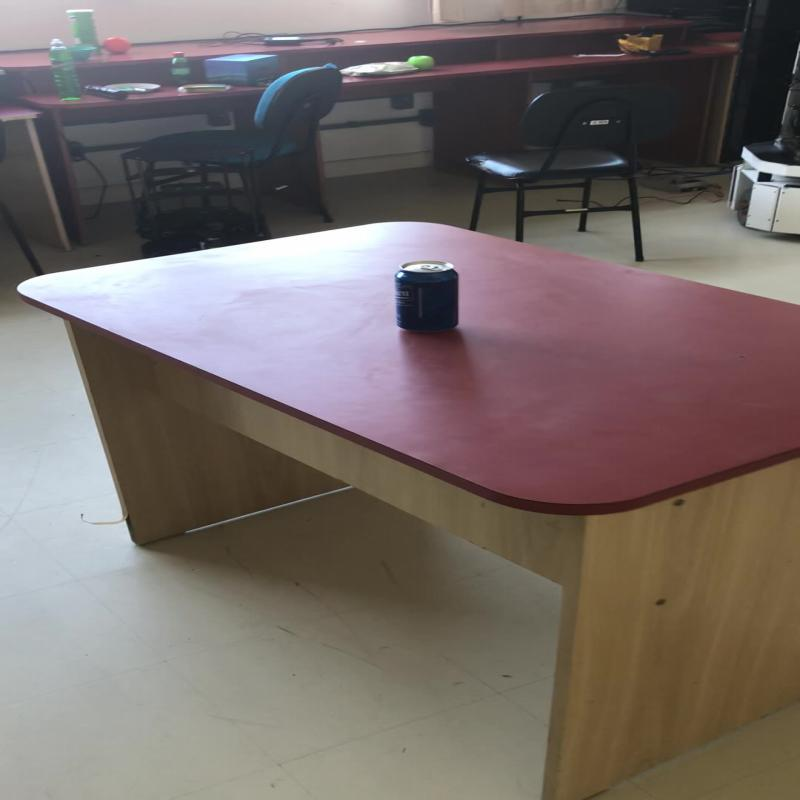tonic: (390, 260, 458, 332), (46, 37, 80, 100), (64, 8, 98, 50), (168, 51, 189, 85)
